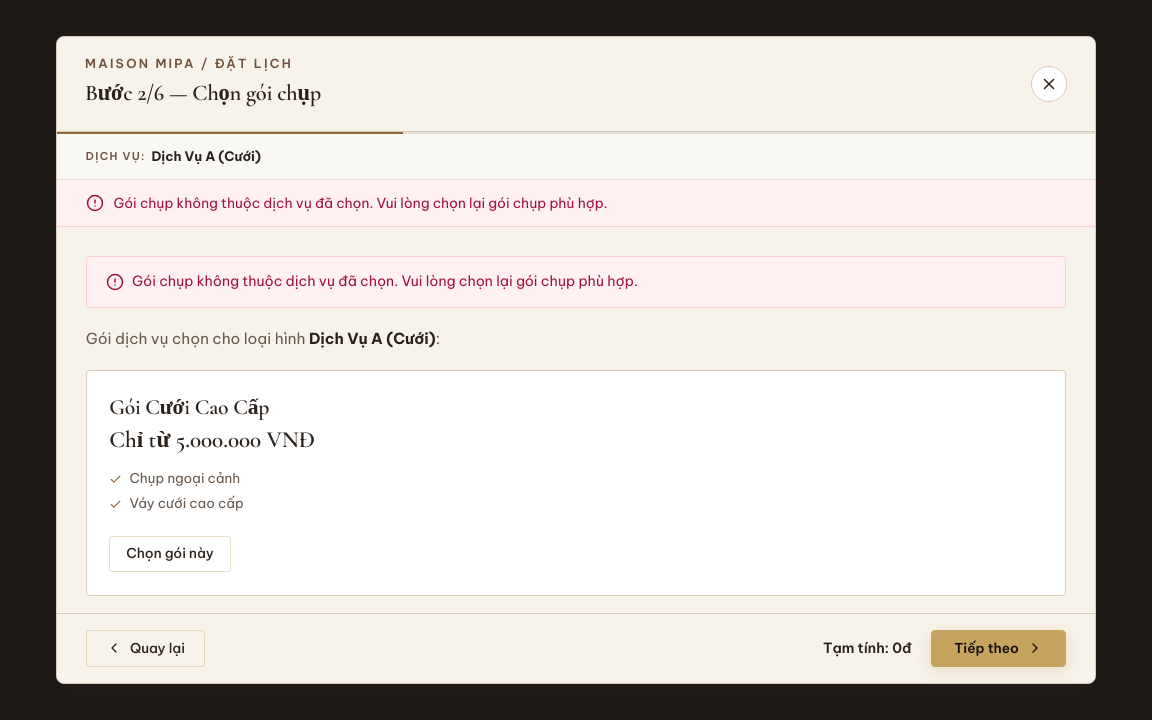
Test: Production Booking Wizard Fail-Closed Policy › 5. service A + package B mismatch -> fail closed with mismatch error banner and blocked advance
Expected: the 1st text "Gói chụp không thuộc dịch vụ đã chọn. Vui lòng chọn lại gói chụp phù hợp." is shown, [113,192,608,214]
Expected: the text "Bước 2/6 — Chọn gói chụp" is shown, [85,75,321,111]
// Advancing without picking a valid package must be blocked
Step 1. Click the button "Tiếp theo" → (998, 648), box [931,630,1066,667]
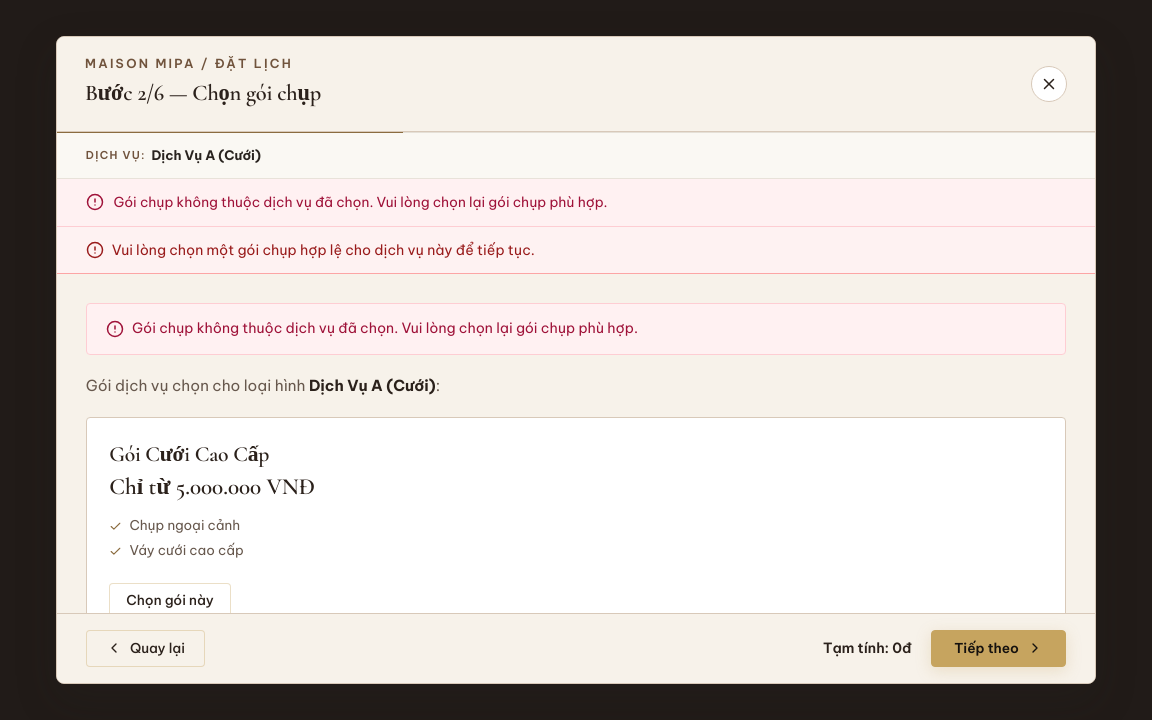
Expected: the text "Vui lòng chọn một gói chụp hợp lệ cho dịch vụ này để tiếp tục." is shown, [112,238,535,261]
